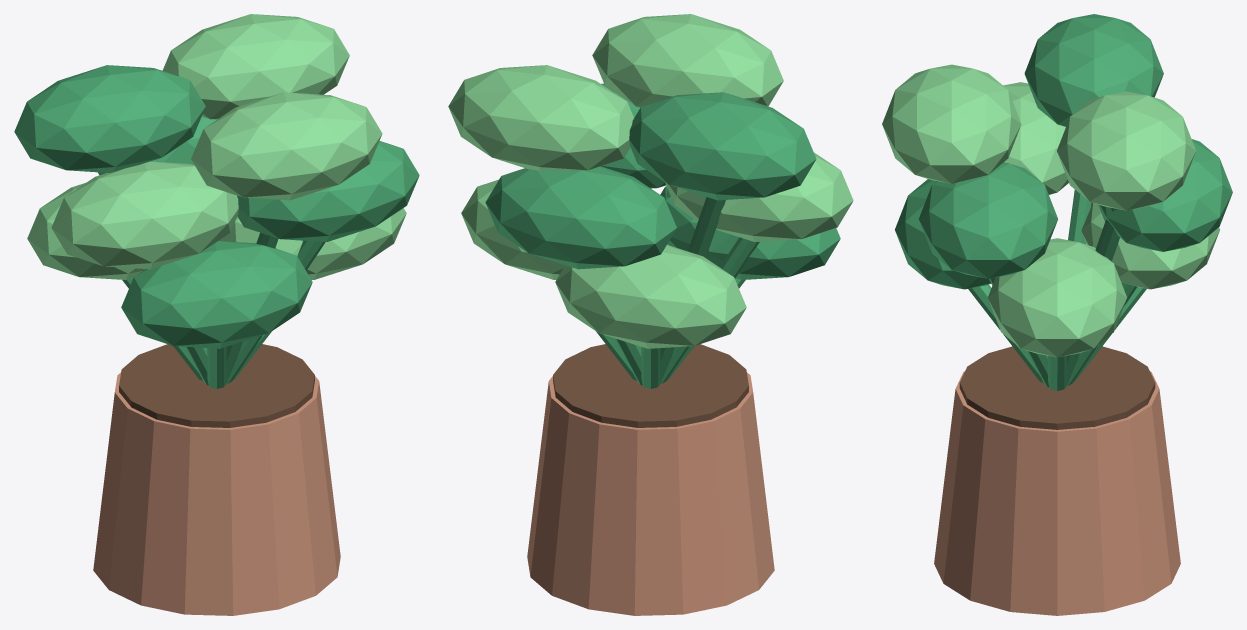
Rendered from plant.glb.
The picture shows the model from 3 angles, left to right: view 1: azimuth 30°, elevation 25°; view 2: azimuth 150°, elevation 25°; view 3: azimuth 270°, elevation 25°; orthographic projection.
Visible parts, largest first — view 1: plant_Mesh; view 2: plant_Mesh; view 3: plant_Mesh.
Part boxes in pixels (box(x1,y1,x2,y2)): plant_Mesh: box(14, 14, 419, 615); plant_Mesh: box(448, 14, 853, 615); plant_Mesh: box(882, 14, 1232, 615).
Bounding box in the file's own units: 0.3747 × 0.505 × 0.327.
